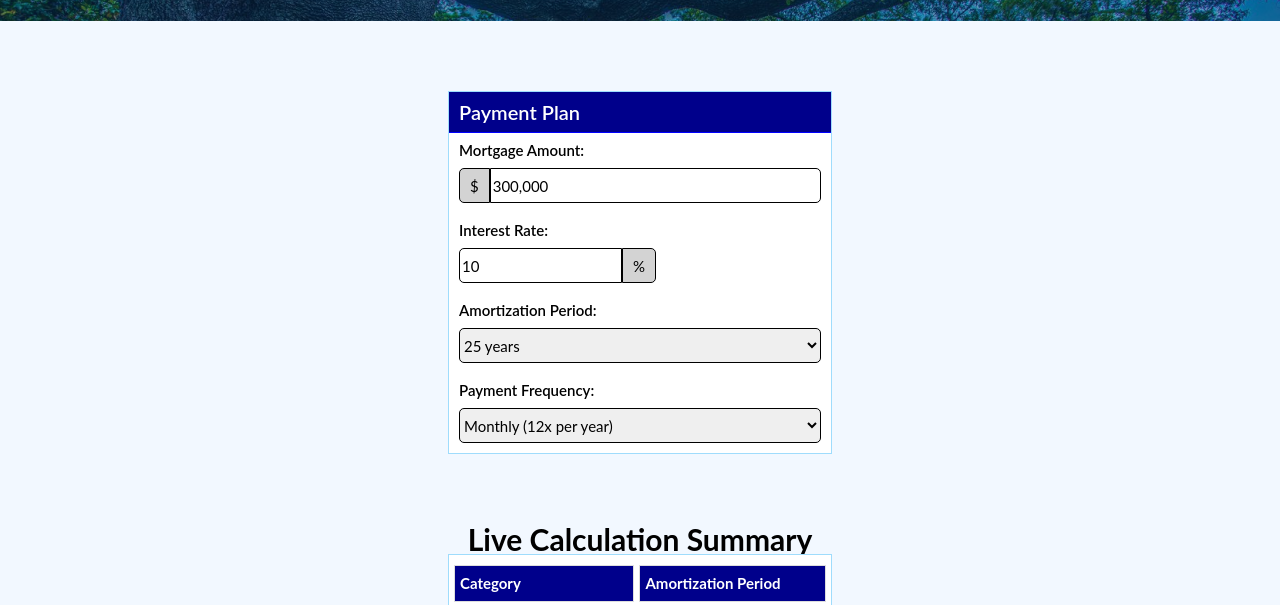
Scenario: InterestRateInput › given a user input that isn't within our accepted values of 0 and 100, it should display a warning message
(page scrolled)
Expected: the text "Reminder: Please enter a percent greater than 0 and less than 100" is not shown
Replace the text in the number field with "100" at (540, 266), box [459,248,622,283]
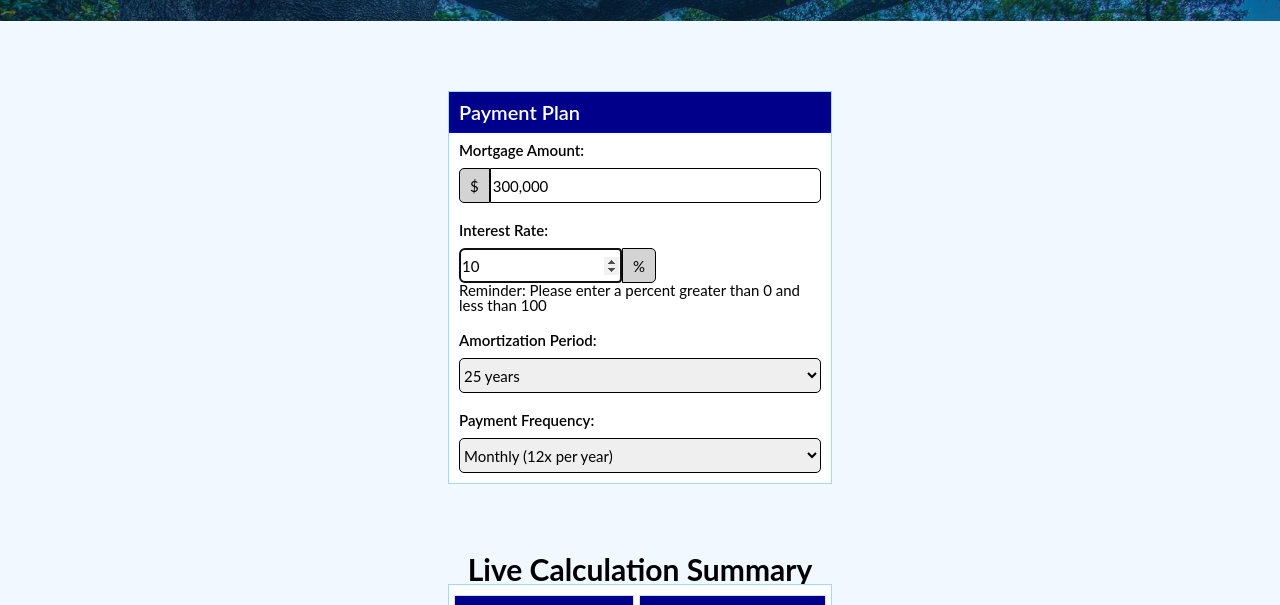
Expected: the text "Reminder: Please enter a percent greater than 0 and less than 100" is shown, [459,283,821,313]
